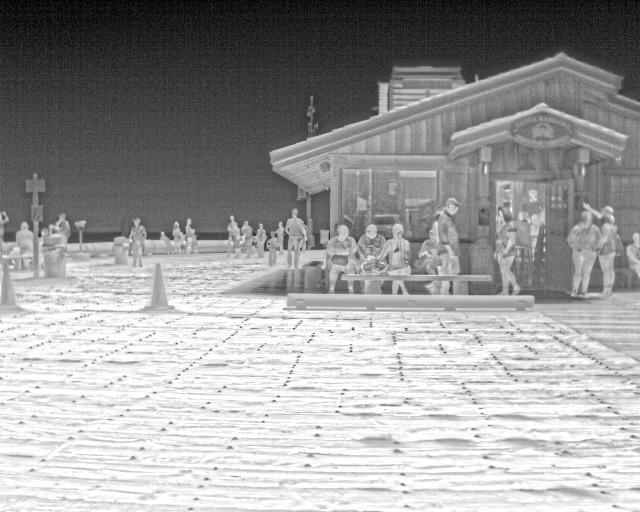empty: (493, 200, 524, 297), (571, 207, 601, 298), (594, 203, 621, 297), (324, 224, 360, 292), (383, 222, 414, 277), (284, 206, 308, 269), (437, 196, 465, 248), (421, 223, 447, 275), (356, 224, 382, 274), (125, 217, 147, 267), (14, 221, 37, 257), (236, 220, 256, 258), (262, 232, 282, 268), (224, 216, 242, 256), (181, 218, 201, 253), (52, 211, 72, 244), (254, 221, 269, 258), (171, 219, 184, 254)
